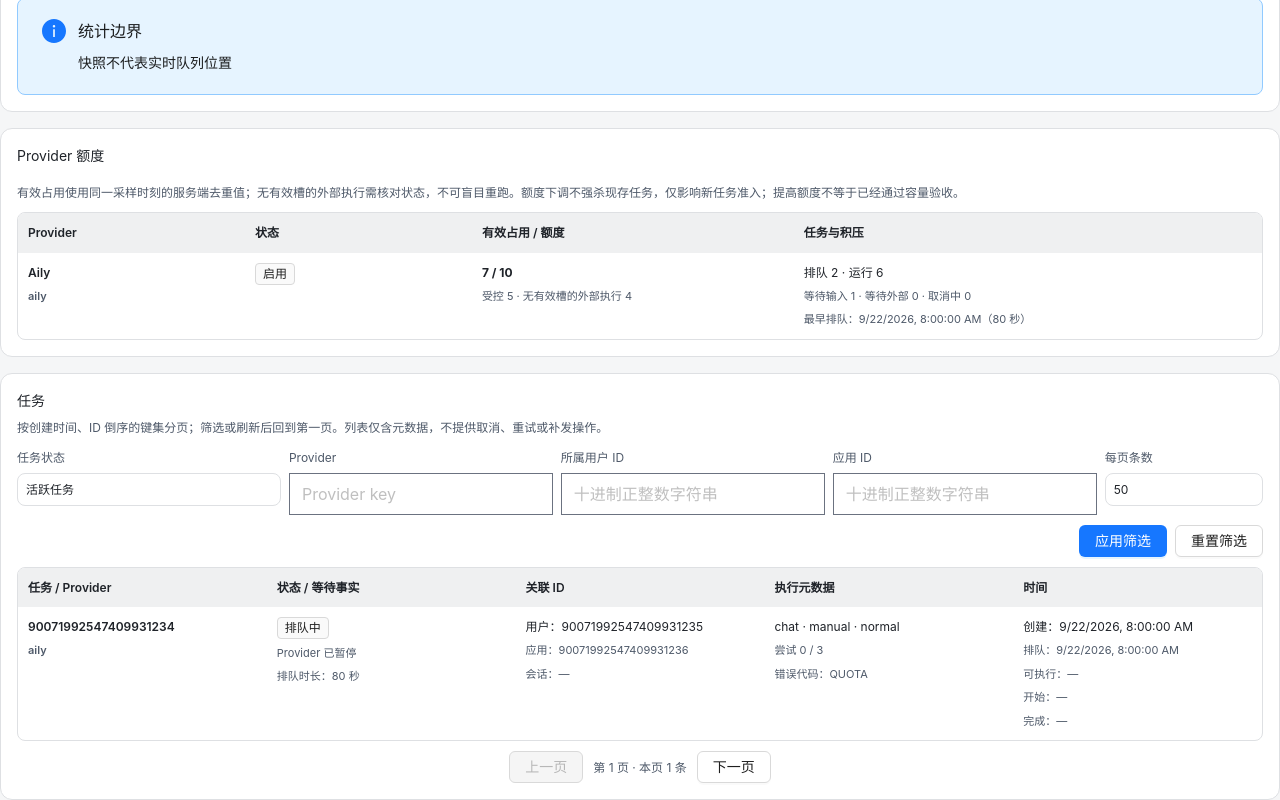
Test case: race conditions and boundary states › offers previous page without offset or an invented total page count
This screenshot has width=1280, height=800.
(page scrolled)
Check: the button "上一页" is disabled, box [509, 752, 583, 784]
Click the button "下一页": (734, 768) [697, 752, 771, 784]
(page scrolled)
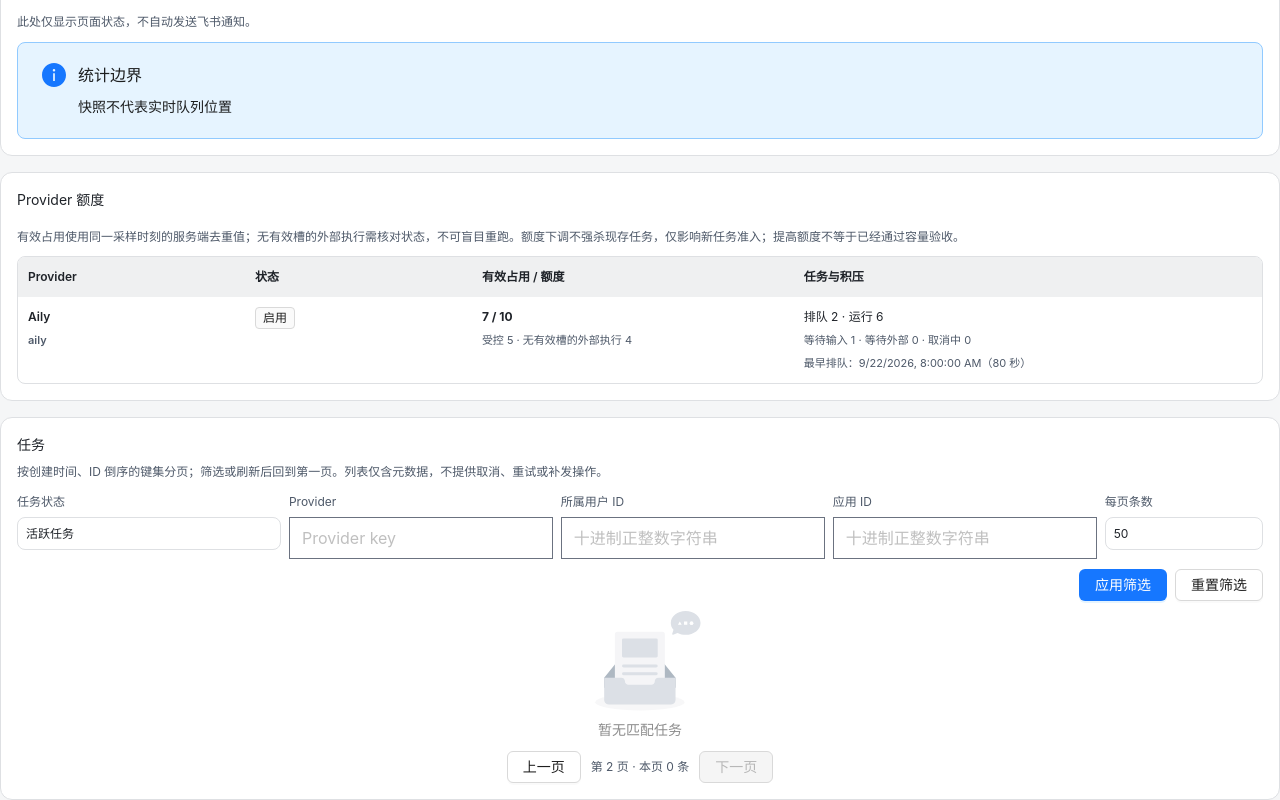
Check: the button "下一页" is disabled, box [699, 751, 773, 783]
Click the button "上一页": (544, 767) [507, 751, 581, 783]
(page scrolled)
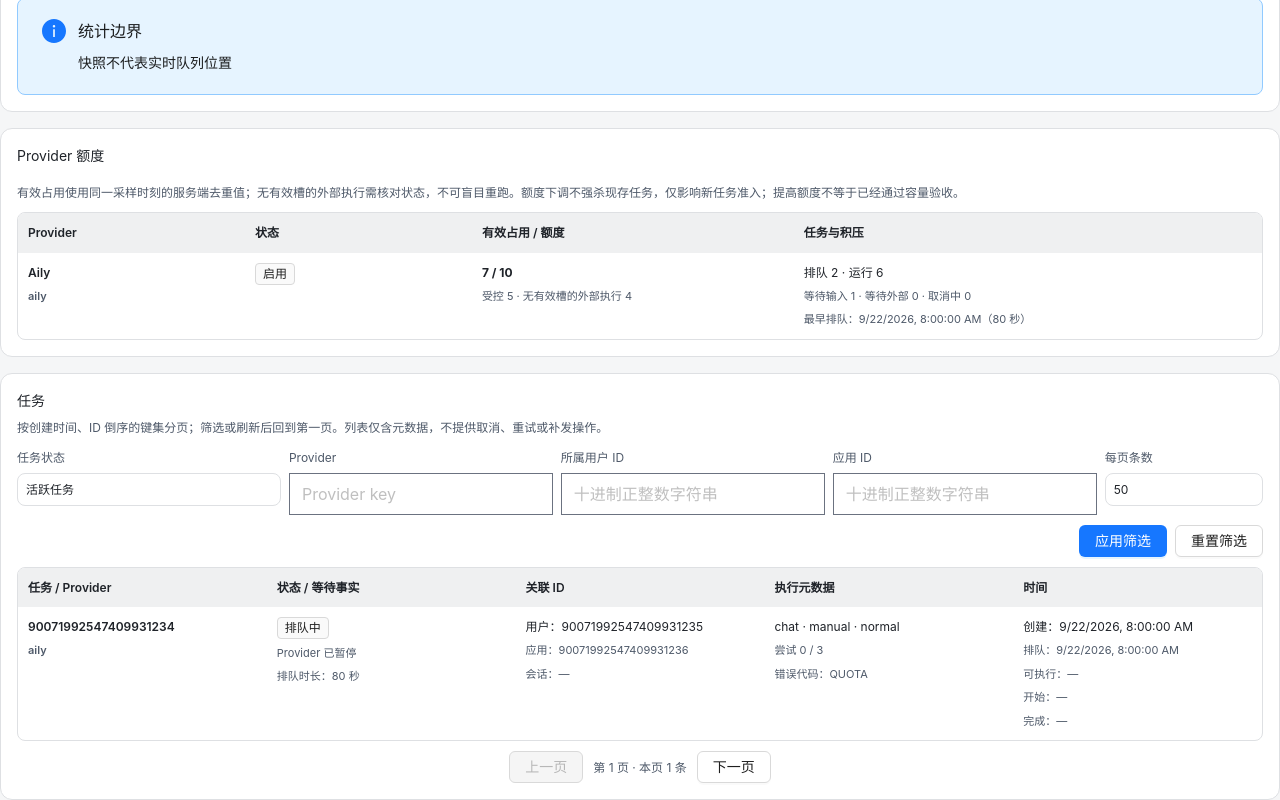
Check: the text "90071992547409931234" is shown, box [28, 619, 175, 634]
